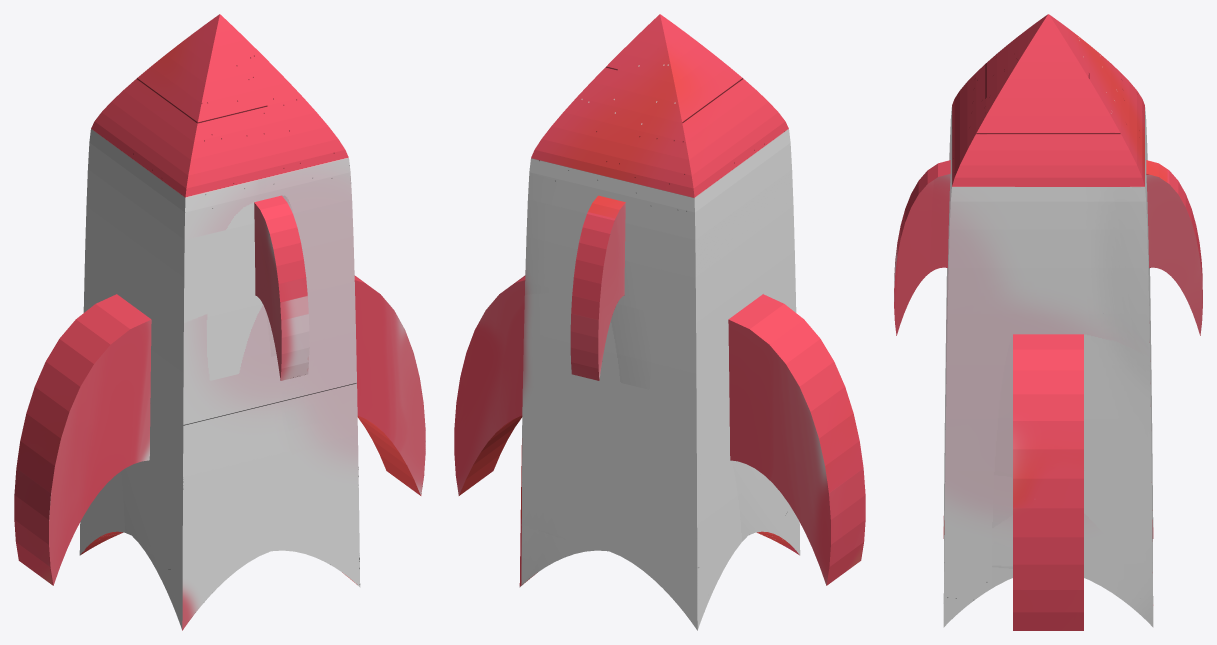
Rendered from rakieta.fbx.
3 views of the same model, side by side, from view 1: azimuth 30°, elevation 25°; view 2: azimuth 150°, elevation 25°; view 3: azimuth 270°, elevation 25° (orthographic). The views are drawn at different scales.
Visible parts, largest first — view 1: obj_0; view 2: obj_0; view 3: obj_0.
Part boxes in pixels (box(x1,y1,x2,y2)): obj_0: box(14, 14, 425, 630); obj_0: box(454, 14, 865, 630); obj_0: box(894, 14, 1202, 630).
Bounding box in the file's own units: 2570 × 3636 × 1787.
Materials: 1 (1 with a texture image).
